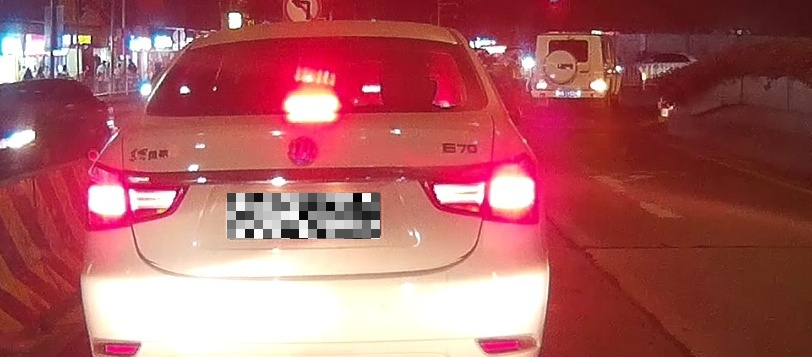L_light: (84, 161, 189, 232)
R_light: (419, 152, 538, 224)
T_light: (284, 96, 339, 114)
night-brake: (80, 24, 549, 357)
plate_1: (227, 193, 380, 239)
